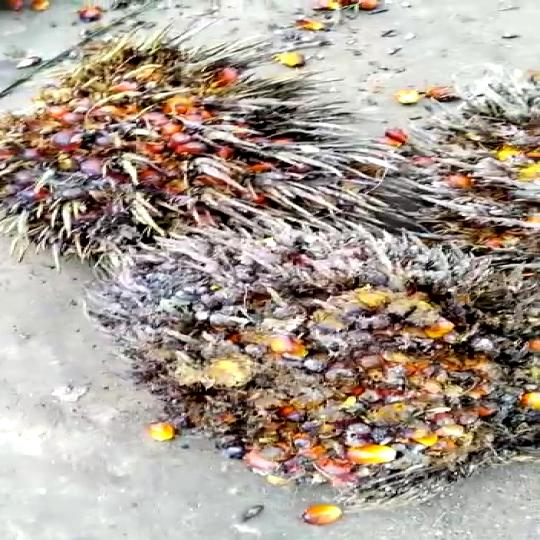terlalu masak: (84, 234, 540, 486), (0, 19, 395, 268)
